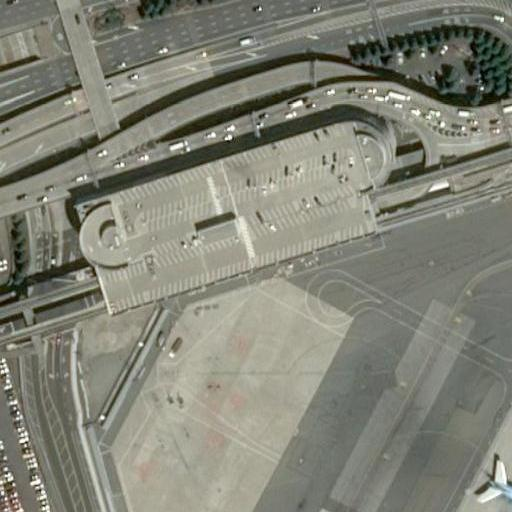Aircraft: (469, 429, 512, 512)
